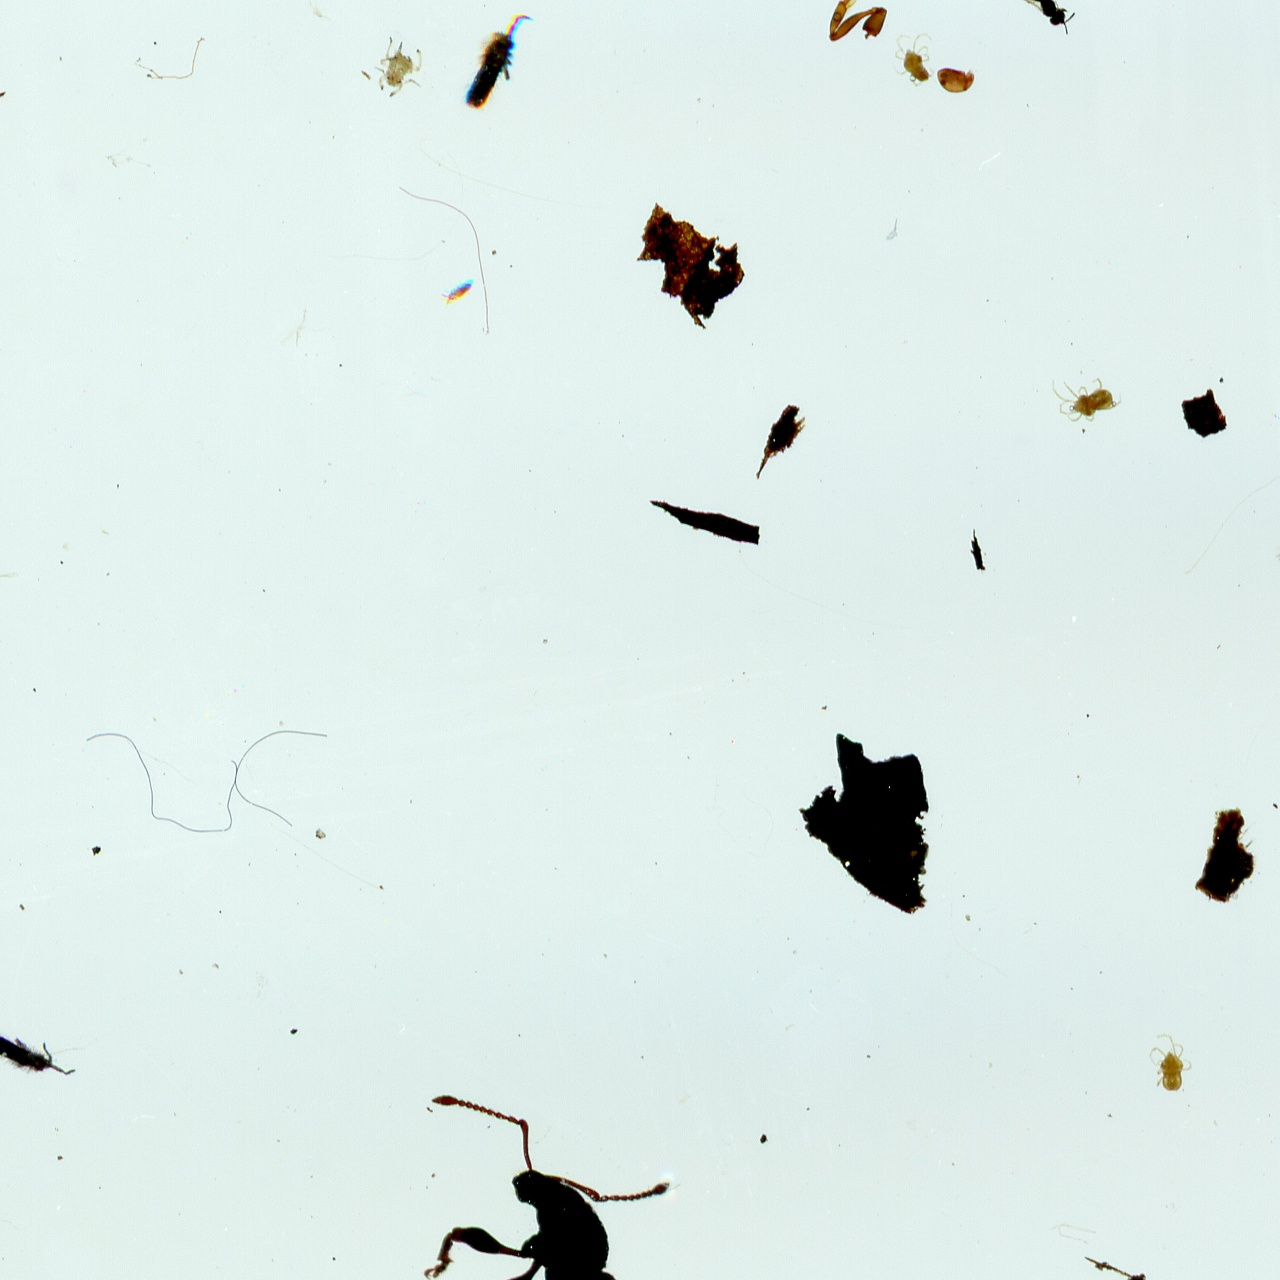arthropod: (415, 1088, 680, 1280), (452, 0, 542, 125), (0, 1020, 80, 1088), (1049, 374, 1124, 427), (373, 34, 427, 100), (1146, 1032, 1194, 1095), (1003, 0, 1076, 38), (891, 30, 938, 88), (933, 63, 979, 98), (1268, 489, 1280, 584), (441, 277, 476, 307)
